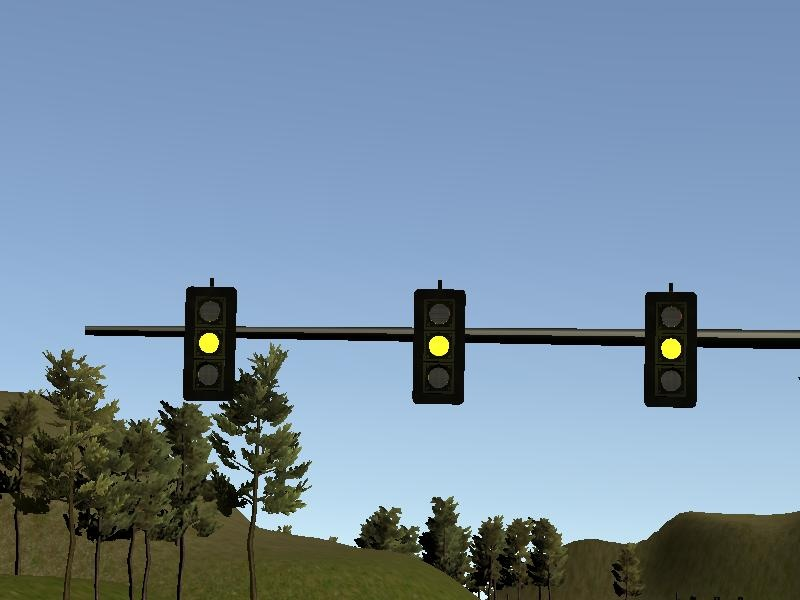YELLOW: (179, 281, 240, 403), (408, 286, 469, 408), (639, 288, 700, 410)
